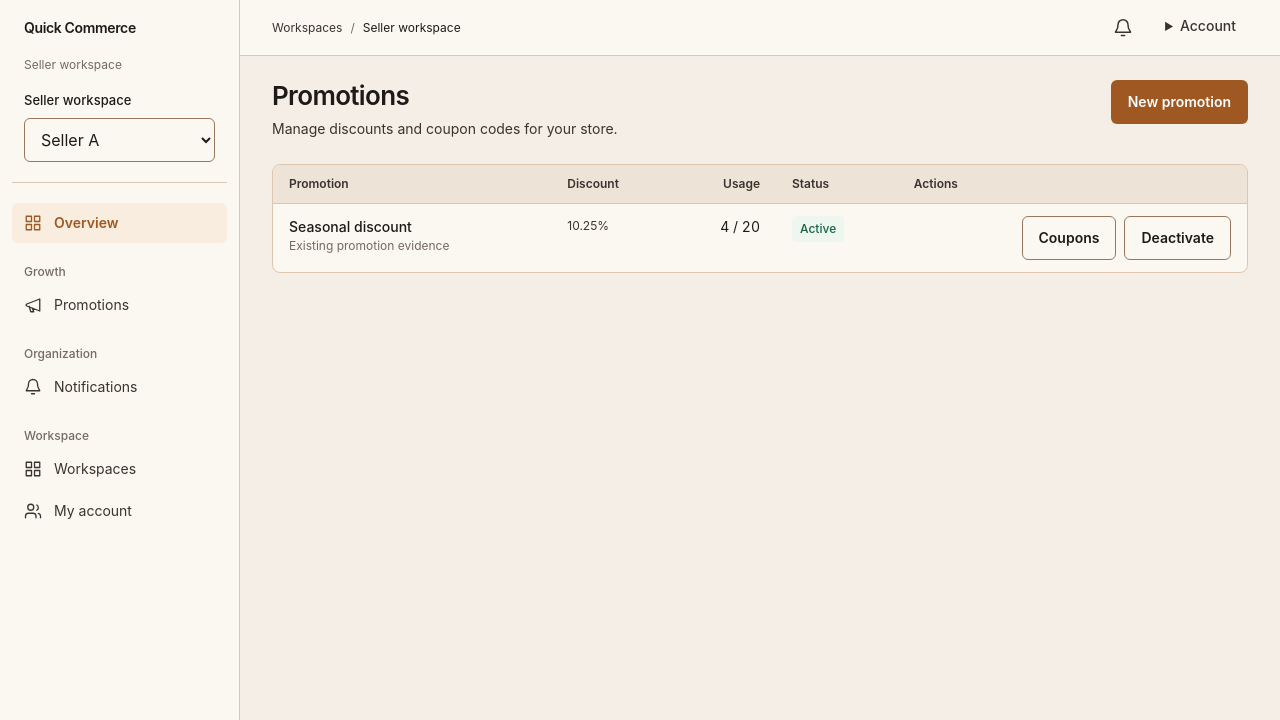
Test case: financial and promotion workflow preservation › keeps a rejected promotion action visible and sends the original seller-scoped command
This screenshot has width=1280, height=720.
Step 1. Click the button "Deactivate" → coordinates (1178, 238), box [1124,216,1231,260]
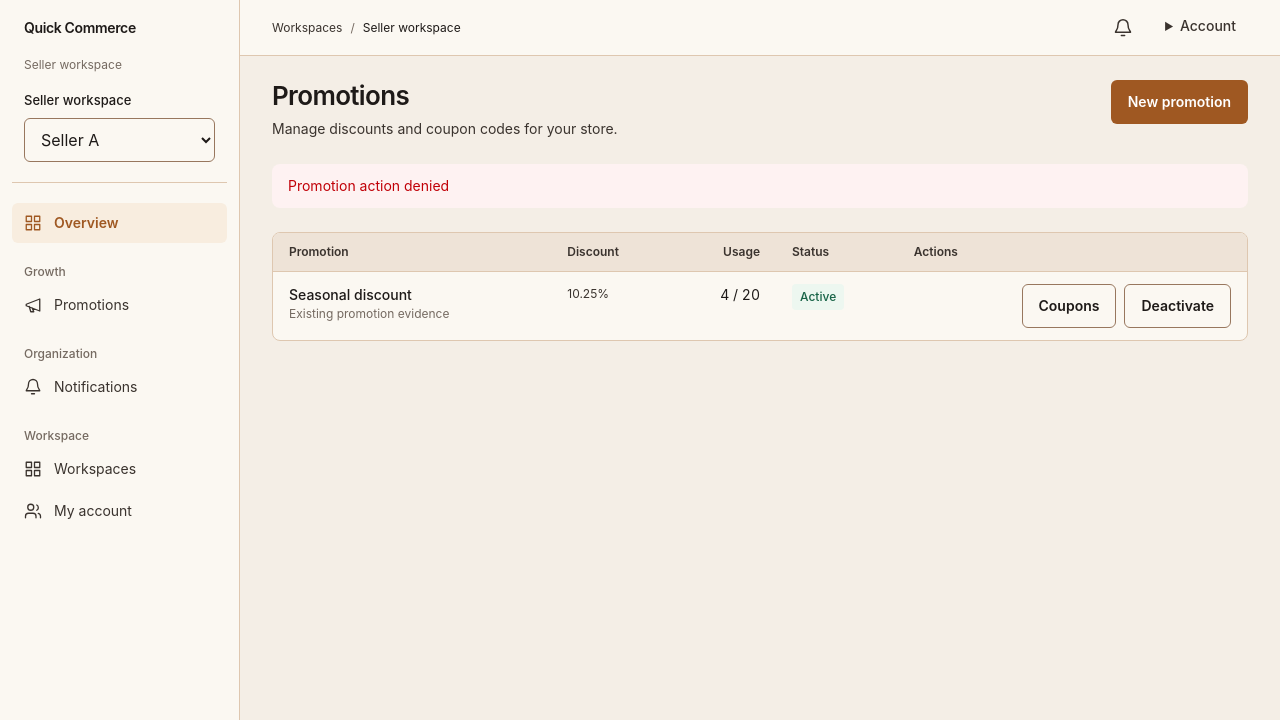
Expected: the text "Seasonal discount" is shown, [289,286,412,303]
Expected: the message reads "Promotion action denied", [288,177,449,194]
